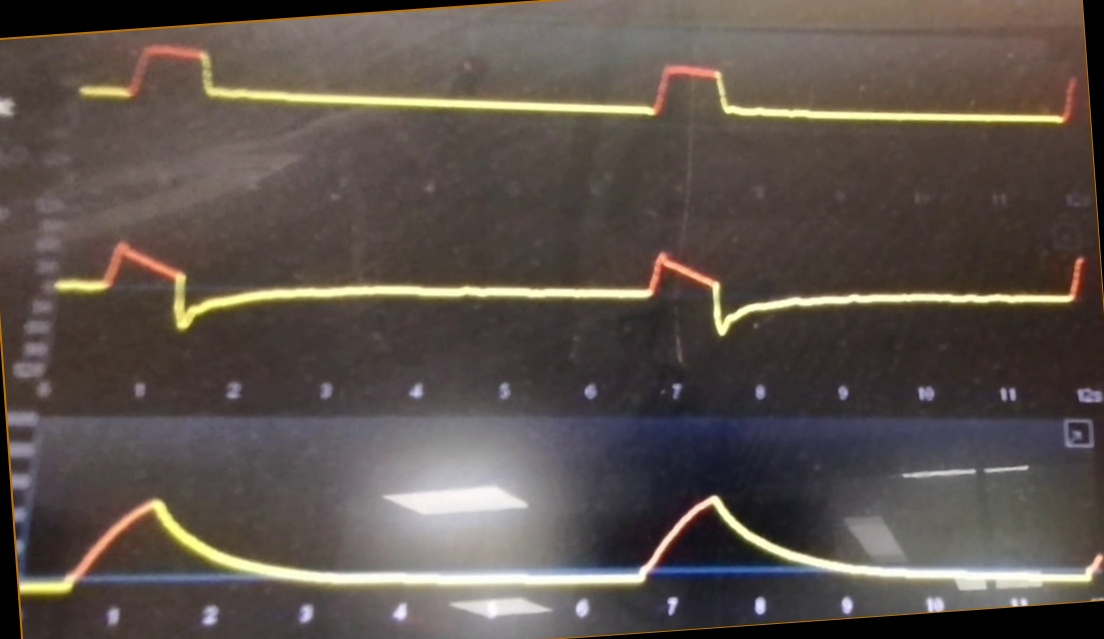Normal Flow: (53, 206, 1098, 349)
Normal Volume: (24, 458, 1104, 598)
